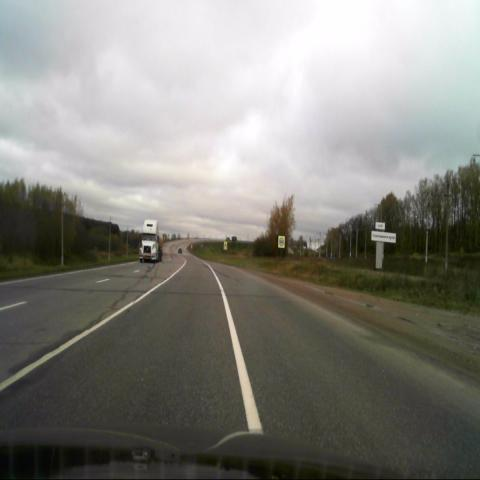3_24: (278, 235, 284, 248)
